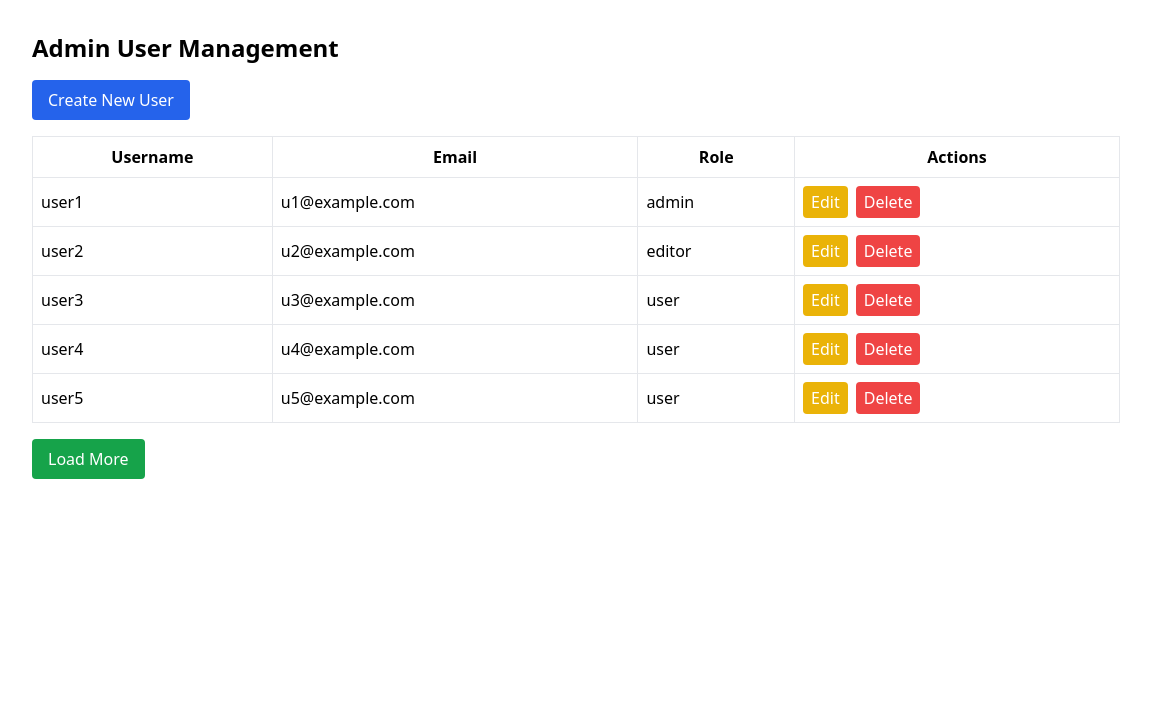
Test: AdminUserManagement Component › manual "Load More" button loads next page
The width and height of the screenshot is (1152, 720).
Expected: the text "user1" is shown, x1=32 y1=178 x2=272 y2=226
# Click "Load More" button.
Click the button "Load More": (88, 459) x1=32 y1=439 x2=144 y2=479
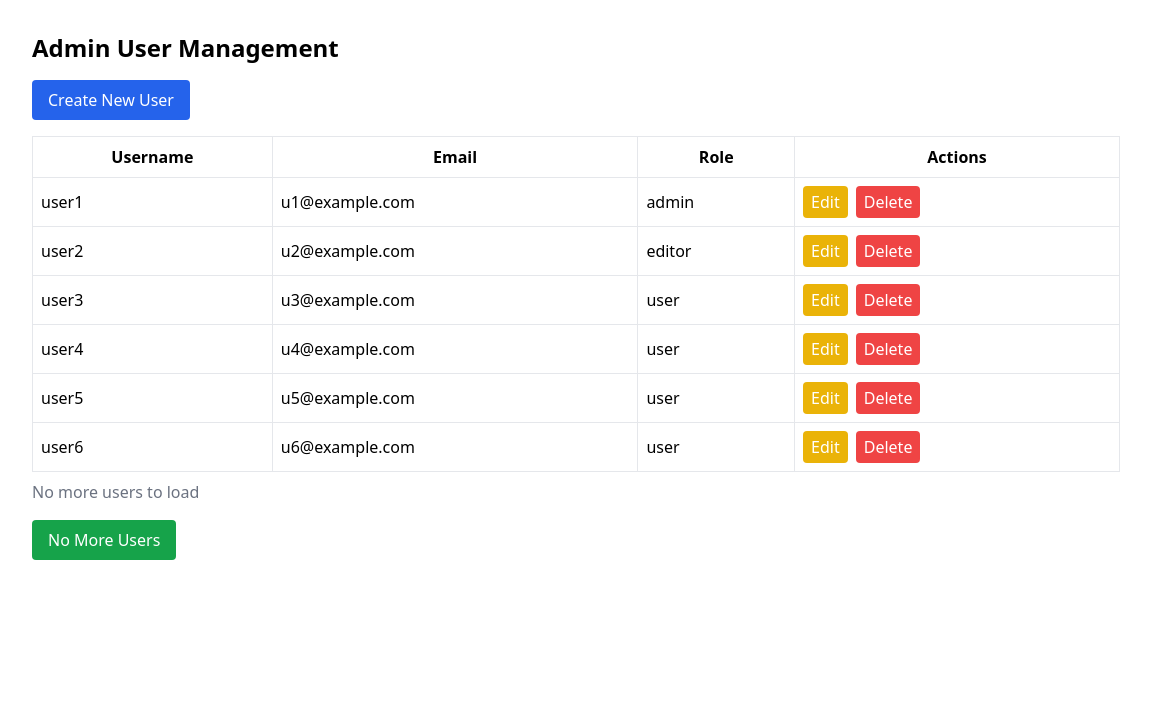
Expected: the text "user6" is shown, x1=32 y1=422 x2=272 y2=472
